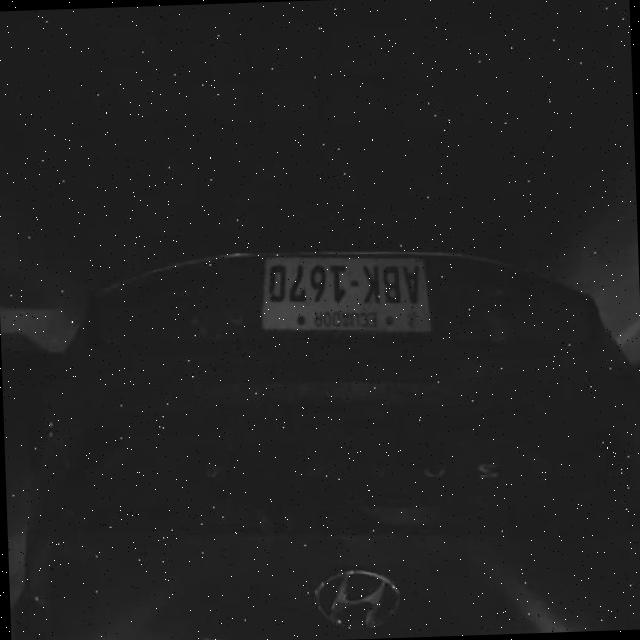Placa: (262, 255, 430, 331)
